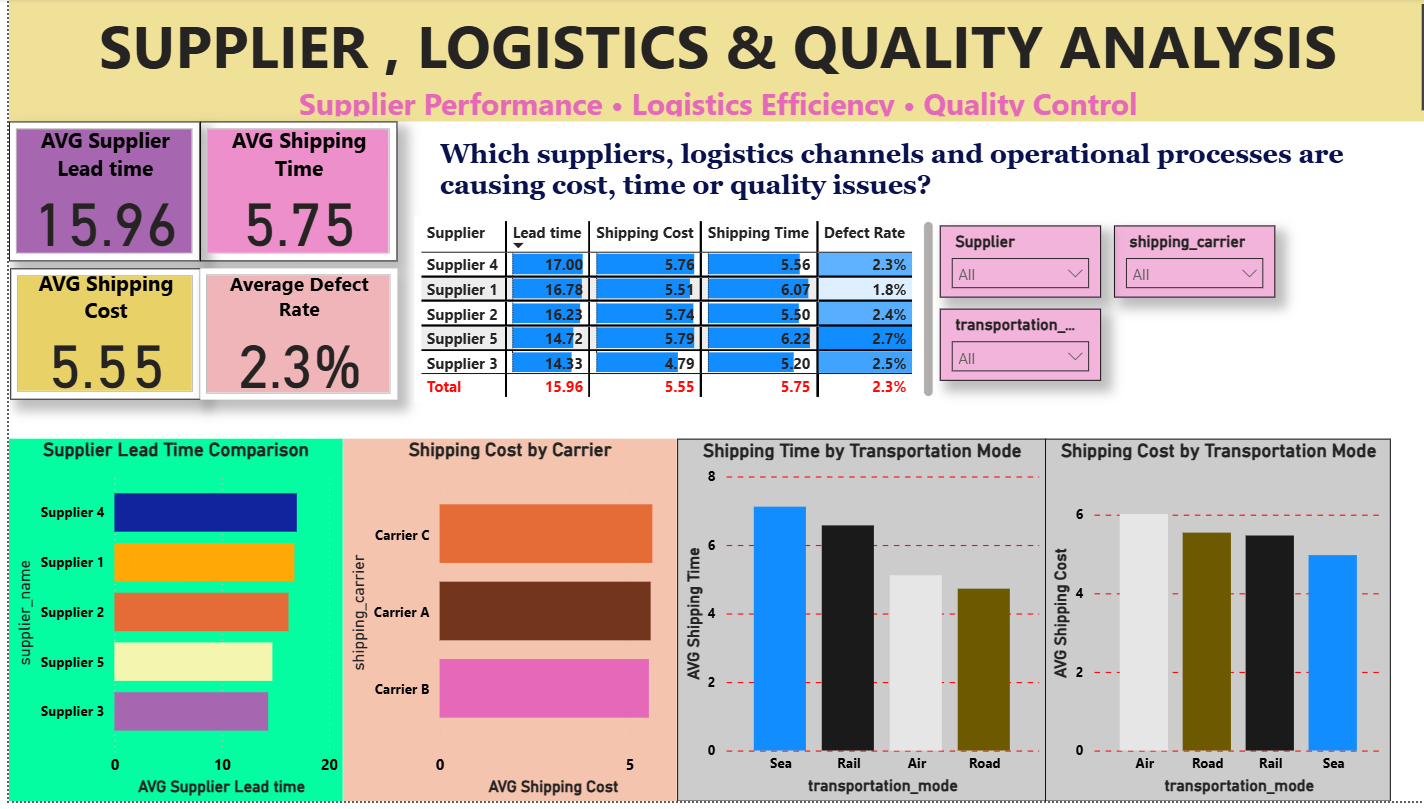

The page's visual inventory and layout, read from the dashboard file:
{"tool":"powerbi","page":{"name":"SUPPLIER, LOGISTICS & QUALITY ANALYSIS","canvas":[1280,720],"ordinal":2},"visuals":[{"type":"textbox","box":[0,0,1279.7,111.1],"z":0},{"type":"cardVisual","fields":{"Data":["public manufacturing.AVG Supplier Lead time"]},"box":[0,111.1,171.7,125.3],"z":1000},{"type":"cardVisual","fields":{"Data":["public shipping.AVG Shipping Time"]},"box":[171.7,111.1,176.9,125.3],"z":2000},{"type":"cardVisual","fields":{"Data":["public shipping.AVG Shipping Cost"]},"box":[1.3,242.8,170.5,117.5],"z":3000},{"type":"cardVisual","fields":{"Data":["public quality.Average Defect Rate"]},"box":[171.7,242.8,176.9,117.5],"z":4000},{"type":"clusteredBarChart","title":"Supplier Lead Time Comparison","fields":{"Category":["public manufacturing.supplier_name"],"Y":["public manufacturing.AVG Supplier Lead time"]},"box":[0,395.1,299.6,325.4],"z":5000},{"type":"clusteredBarChart","title":"Shipping Cost by Carrier","fields":{"Category":["public shipping.shipping_carrier"],"Y":["public shipping.AVG Shipping Cost"]},"box":[299.6,395.1,299.6,325.4],"z":6000},{"type":"clusteredColumnChart","title":"Shipping Time by Transportation Mode","fields":{"Category":["public shipping.transportation_mode"],"Y":["public shipping.AVG Shipping Time"]},"box":[599.2,395.1,330.6,325.4],"z":7000},{"type":"clusteredColumnChart","title":"Shipping Cost by Transportation Mode","fields":{"Category":["public shipping.transportation_mode"],"Y":["public shipping.AVG Shipping Cost"]},"box":[929.8,395.1,309.9,325.4],"z":8000},{"type":"tableEx","fields":{"Values":["public manufacturing.supplier_name","public manufacturing.AVG Supplier Lead time","public shipping.AVG Shipping Cost","public shipping.AVG Shipping Time","public quality.Average Defect Rate"]},"box":[364.2,195,470,167.9],"z":9000},{"type":"slicer","fields":{"Values":["public shipping.shipping_carrier"]},"box":[990.5,204,144.6,64.6],"z":9001},{"type":"slicer","fields":{"Values":["public manufacturing.supplier_name"]},"box":[834.2,204,144.6,64.6],"z":9002},{"type":"slicer","fields":{"Values":["public shipping.transportation_mode"]},"box":[834.2,278.9,144.6,64.6],"z":9003},{"type":"textbox","box":[380.9,120.1,898.8,74.9],"z":9004}]}

Visuals, with their boxes in screenshot pixels (x1, y1, x2, y2), scaled from the page's 1280x720 canvas onto the 1424x809 screenshot:
textbox: bbox(0, 0, 1423, 125)
cardVisual - public manufacturing.AVG Supplier Lead time: bbox(0, 125, 191, 266)
cardVisual - public shipping.AVG Shipping Time: bbox(191, 125, 388, 266)
cardVisual - public shipping.AVG Shipping Cost: bbox(1, 273, 191, 405)
cardVisual - public quality.Average Defect Rate: bbox(191, 273, 388, 405)
"Supplier Lead Time Comparison" clusteredBarChart: bbox(0, 444, 333, 808)
"Shipping Cost by Carrier" clusteredBarChart: bbox(333, 444, 667, 808)
"Shipping Time by Transportation Mode" clusteredColumnChart: bbox(667, 444, 1034, 808)
"Shipping Cost by Transportation Mode" clusteredColumnChart: bbox(1034, 444, 1379, 808)
tableEx - public manufacturing.supplier_name x public manufacturing.AVG Supplier Lead time: bbox(405, 219, 928, 408)
slicer - public shipping.shipping_carrier: bbox(1102, 229, 1263, 302)
slicer - public manufacturing.supplier_name: bbox(928, 229, 1089, 302)
slicer - public shipping.transportation_mode: bbox(928, 313, 1089, 386)
textbox: bbox(424, 135, 1423, 219)
